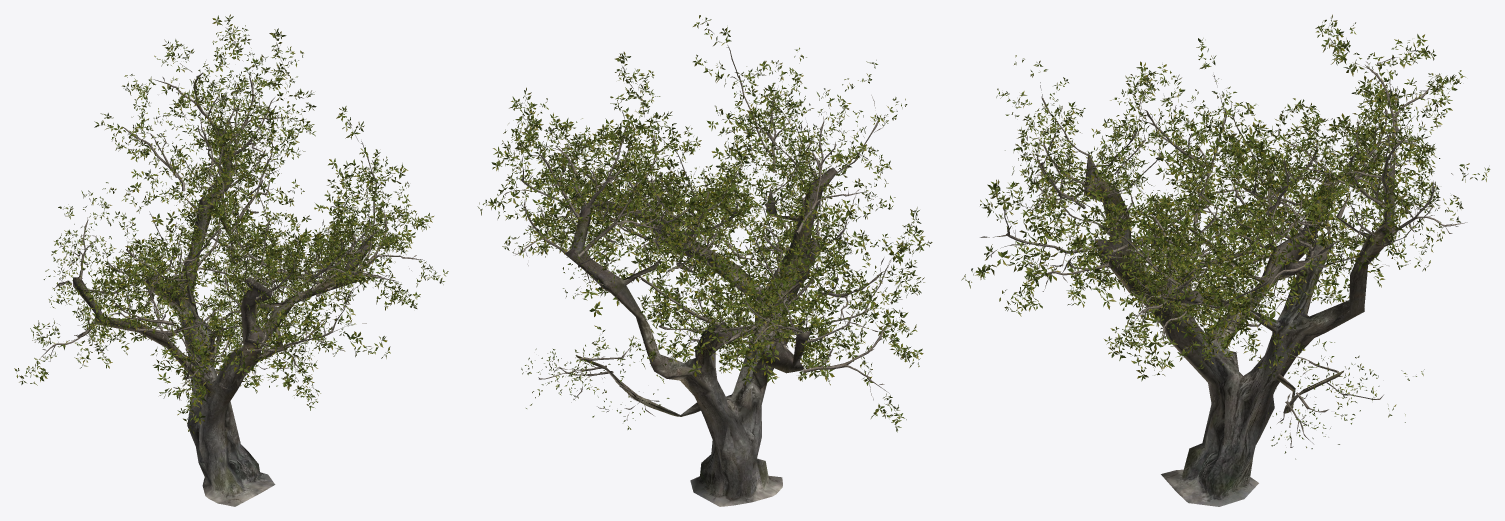
The model's file is island_tree_01.glb.
3 views of the same model, side by side, from view 1: azimuth 30°, elevation 25°; view 2: azimuth 150°, elevation 25°; view 3: azimuth 270°, elevation 25° (orthographic). The views are drawn at different scales.
Parts seen in each view (by area): view 1: island_tree_01_LOD0; view 2: island_tree_01_LOD0; view 3: island_tree_01_LOD0.
Part boxes in pixels (box(x1,y1,x2,y2)): island_tree_01_LOD0: box(14, 14, 448, 506); island_tree_01_LOD0: box(477, 15, 932, 506); island_tree_01_LOD0: box(961, 14, 1490, 506).
Bounding box in the file's own units: 4.74 × 5.02 × 4.81.
3 materials, 3 textured.
